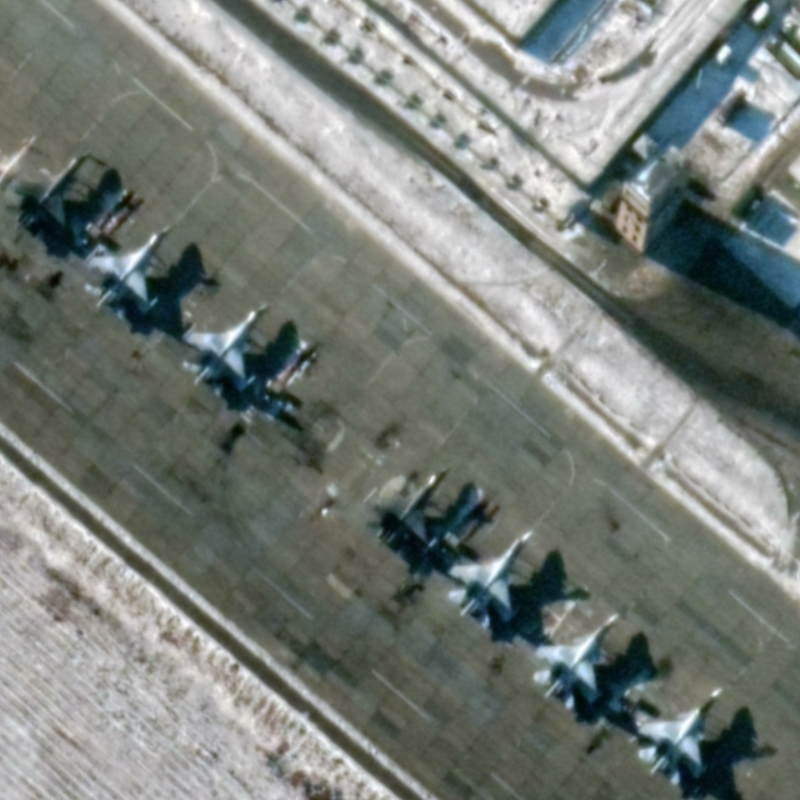A1: (443, 526, 538, 635), (82, 221, 175, 317), (362, 463, 455, 558), (175, 300, 272, 388), (9, 148, 95, 233)
A19: (631, 682, 729, 790), (530, 610, 623, 713)
